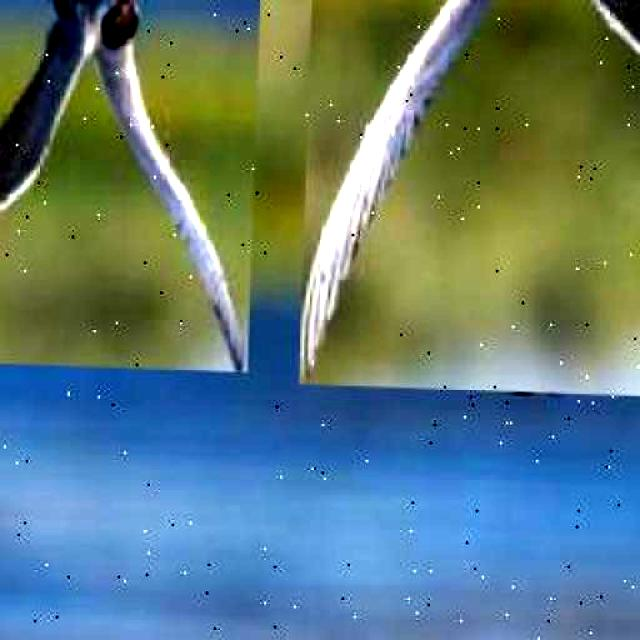airplane: (298, 0, 640, 402), (0, 0, 261, 372)
